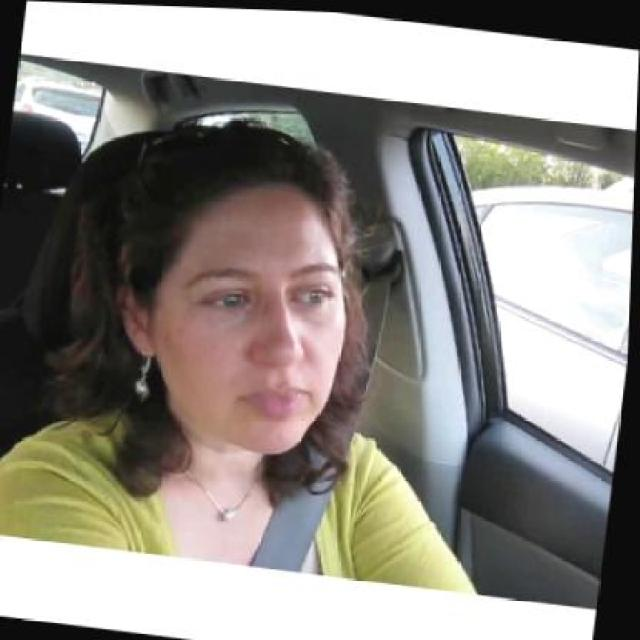attentif: (104, 104, 373, 462)
